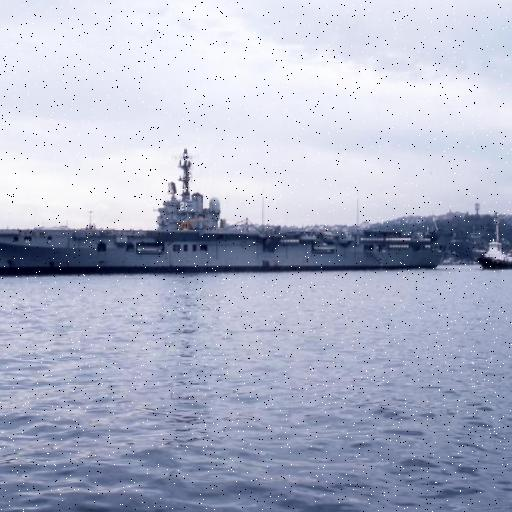Portanaves: (1, 145, 446, 283)
